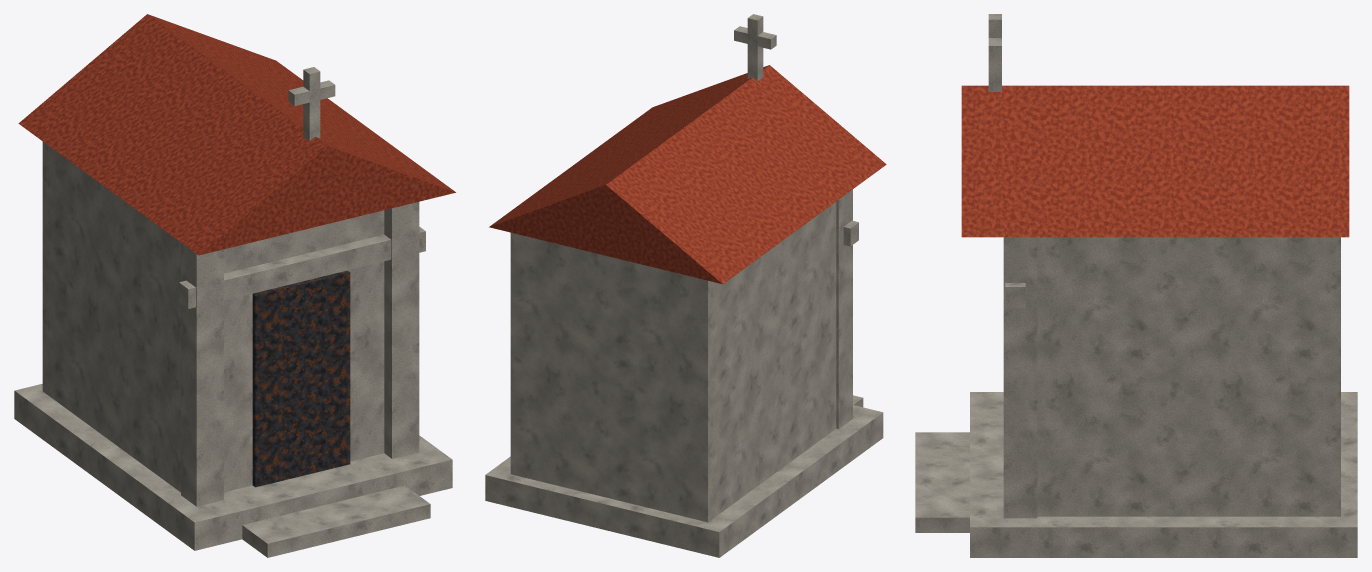
File: mausoleo.obj
3 views of the same model, side by side, from view 1: azimuth 30°, elevation 25°; view 2: azimuth 150°, elevation 25°; view 3: azimuth 270°, elevation 25° (orthographic). The views are drawn at different scales.
Visible parts, largest first — view 1: Techo, Cube.001, Cube.004, Cube, Cube.002, Cube.003, Cube.008, Cube.005, Cube.006, Cube.007; view 2: Cube.001, Techo, Cube, Cube.002, Cube.006, Cube.007; view 3: Cube.001, Techo, Cube, Cube.003, Cube.008, Cube.006, Cube.005.
Part boxes in pixels (<box>): Techo: <box>18,14,455,255</box>; Cube.001: <box>42,141,384,492</box>; Cube.004: <box>252,270,350,487</box>; Cube: <box>14,384,452,550</box>; Cube.002: <box>181,243,223,506</box>; Cube.003: <box>384,202,419,458</box>; Cube.008: <box>242,485,430,557</box>; Cube.005: <box>179,226,425,308</box>; Cube.006: <box>303,67,320,141</box>; Cube.007: <box>288,80,335,105</box>; Cube.001: <box>510,202,836,522</box>; Techo: <box>489,65,886,284</box>; Cube: <box>485,405,883,557</box>; Cube.002: <box>836,189,852,429</box>; Cube.006: <box>747,14,763,81</box>; Cube.007: <box>734,26,776,49</box>; Cube.001: <box>1037,237,1340,516</box>; Techo: <box>961,85,1349,237</box>; Cube: <box>970,392,1357,557</box>; Cube.003: <box>1003,237,1037,518</box>; Cube.008: <box>915,432,969,532</box>; Cube.006: <box>988,14,1001,91</box>; Cube.005: <box>1005,283,1025,308</box>.
Bounding box in the file's own units: 1.9 × 3.1 × 2.62.
Materials: 3 (3 with a texture image).
